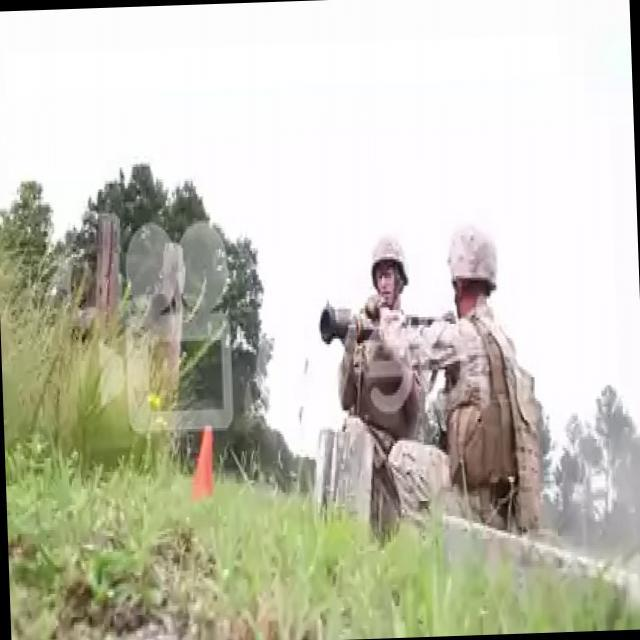rocket: (316, 307, 372, 343)
